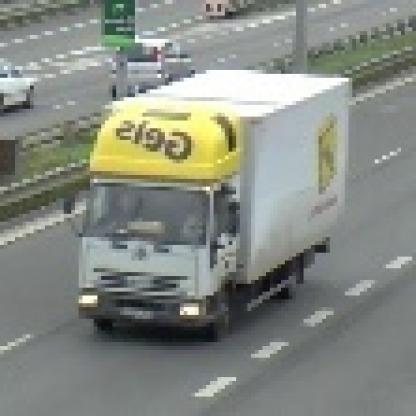truck: (61, 67, 346, 343)
